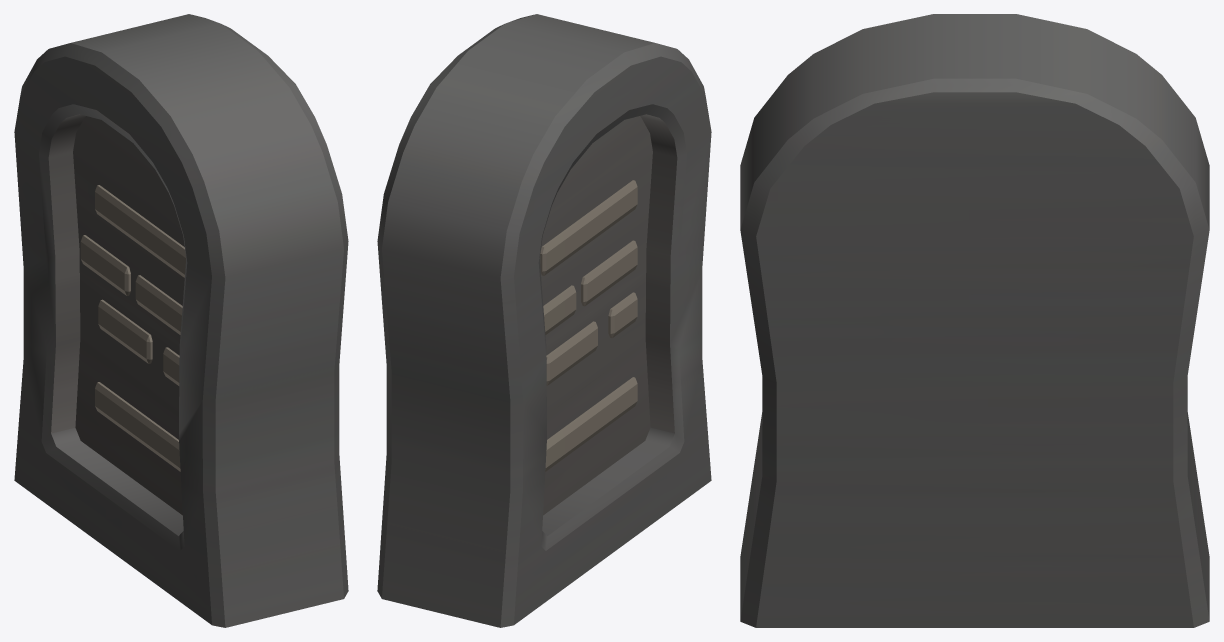
Rendered from Tombstone_1.glb.
3 renders of one model, left to right at view 1: azimuth 30°, elevation 25°; view 2: azimuth 150°, elevation 25°; view 3: azimuth 270°, elevation 25°, orthographic. The views are drawn at different scales.
Visible parts, largest first — view 1: Tombstone_1; view 2: Tombstone_1; view 3: Tombstone_1.
Boxes of the visible parts, bbox=[...] form: Tombstone_1: bbox=[14, 14, 348, 627]; Tombstone_1: bbox=[377, 14, 711, 627]; Tombstone_1: bbox=[740, 14, 1209, 627].
Size of the model in its own units: 0.2612 by 0.8799 by 0.6893.
Materials: 1 (1 with a texture image).
